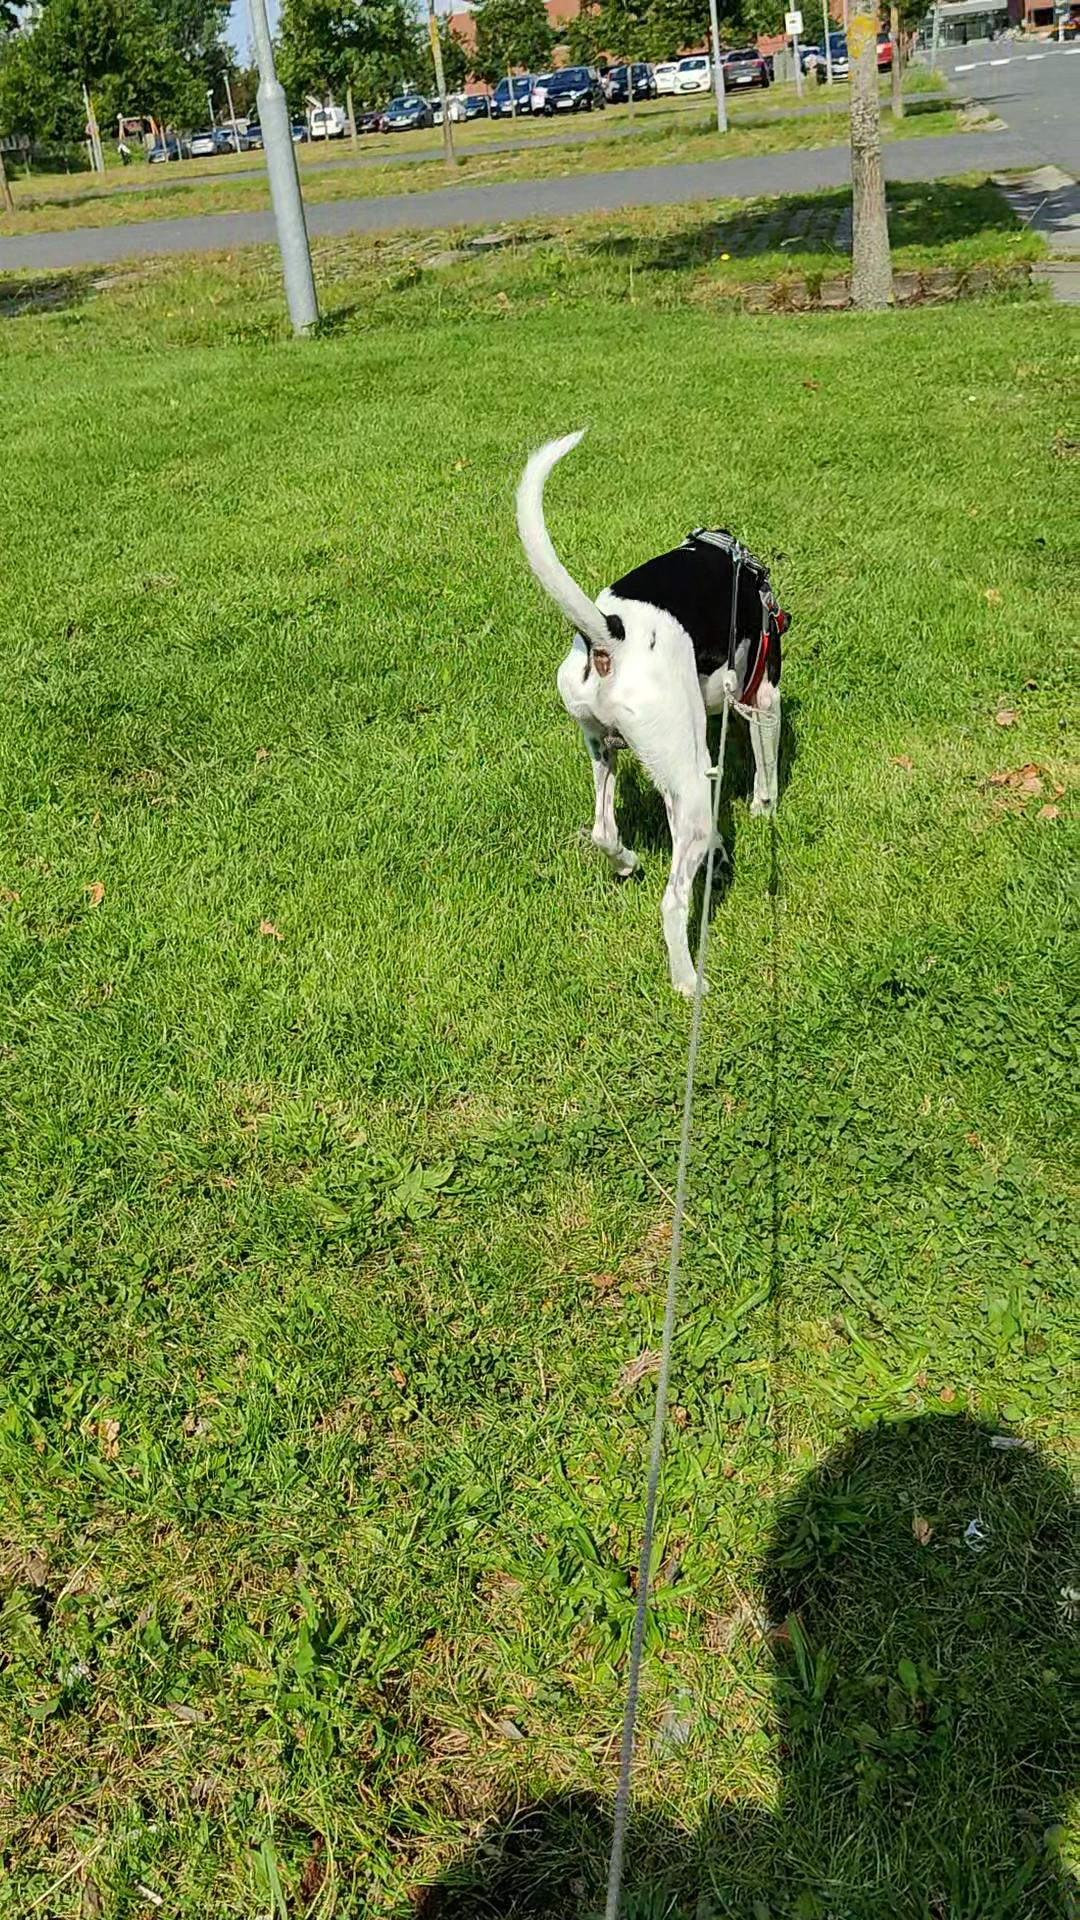Dog: (495, 392, 811, 1026)
